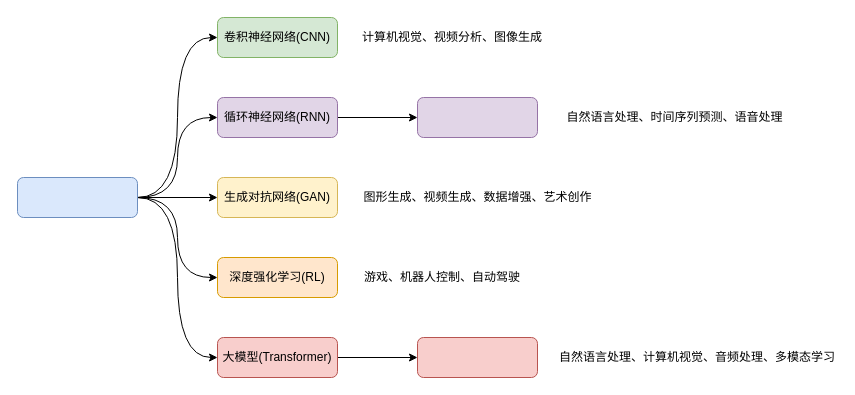
Some shapes in this 855 by 395 pixel diagram are drawn without their labels. The centre of each missing label's shape, as x and y in pixels:
"GPT" goes at point 477,357.
"神经网络" goes at point 77,197.
"长短期记忆(LSTM)" goes at point 477,117.
